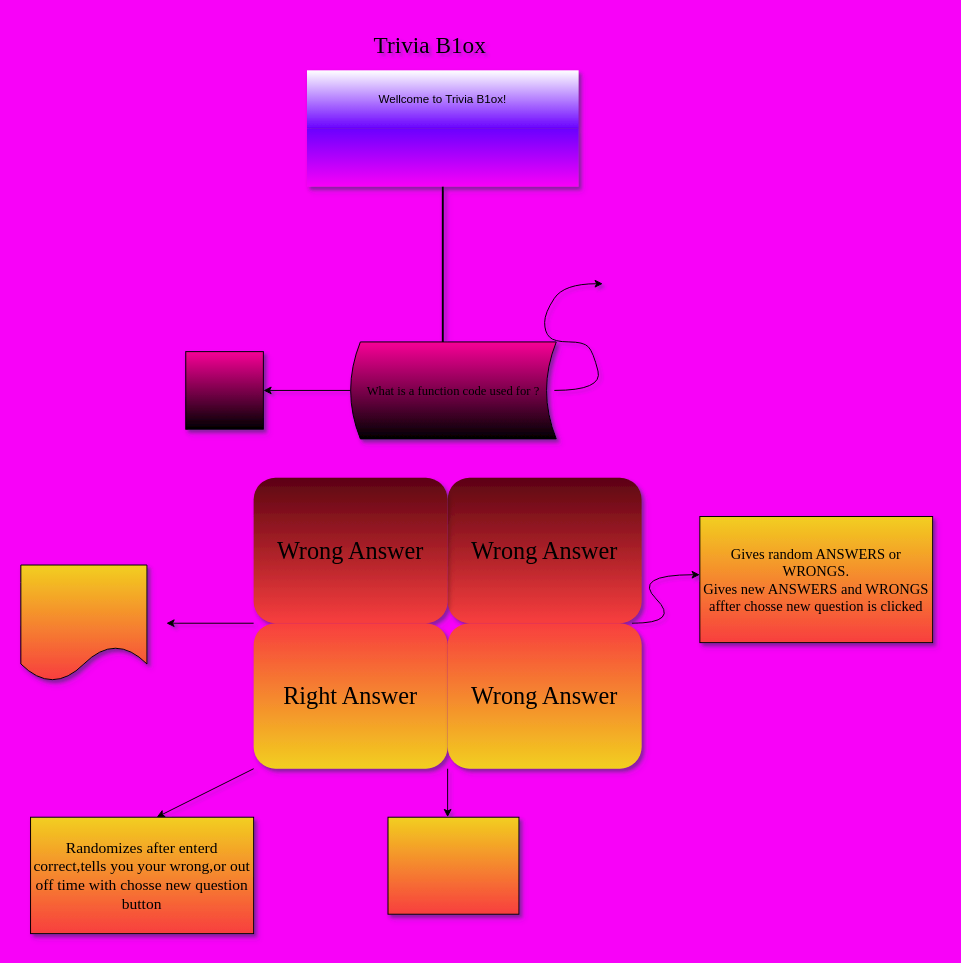
Image size: 961x963. Some labels were removed from this diagram. Here are the shapes that lost their labels. From the top down, the centre of each, then its label:
At pixel 443 158: "Press Enter to Start Your Endeavor".
At pixel 225 391: "Three min timer".
At pixel 84 624: "Gives right answer if enterd WRONG or out of TIME".
At pixel 454 866: "Award points if right subtract if wrong".
